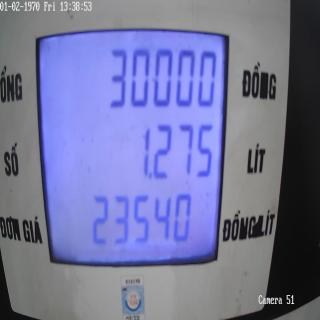screen: (33, 9, 233, 274)
